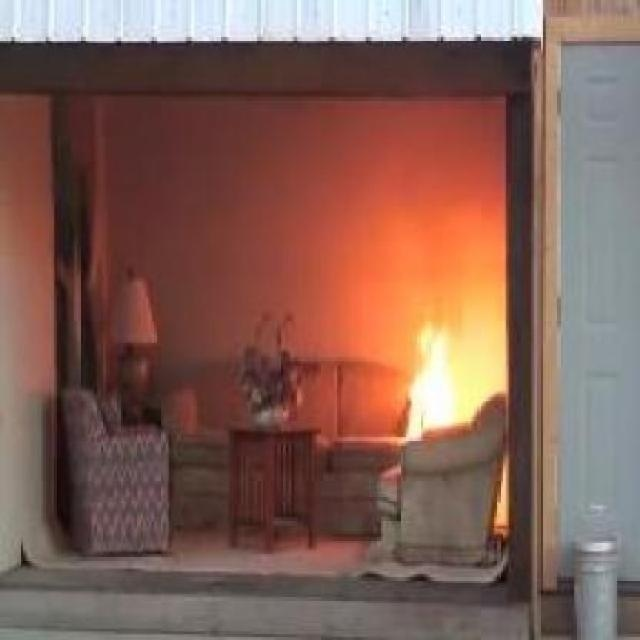fire: (393, 281, 481, 425)
